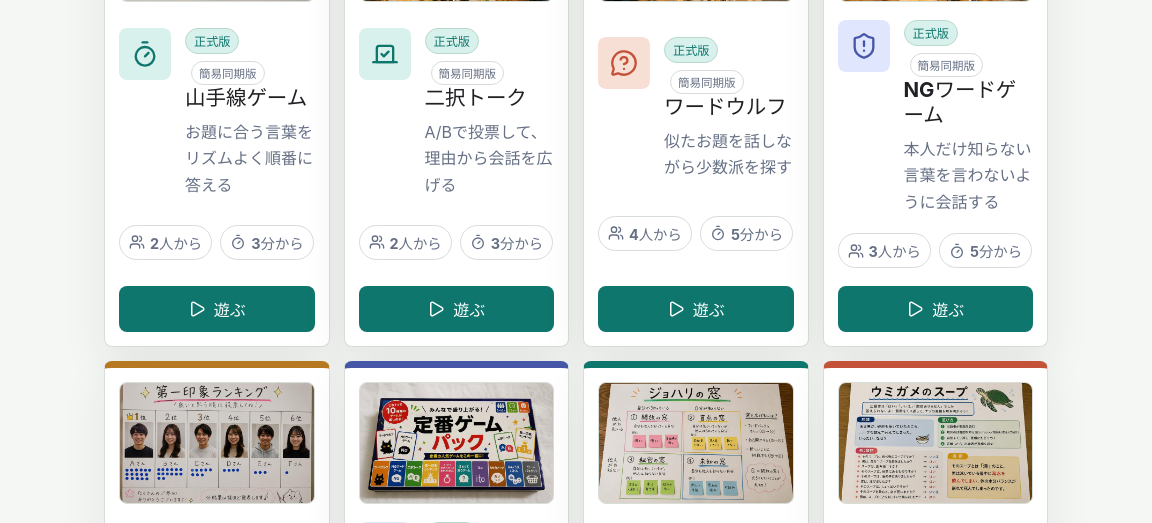
ホームからゲーム開始 › 正式版ゲームが表示され、開始時は同期ルームへ誘導される
(page scrolled)
Click the button "遊ぶ" below "A/Bで投票して、理由から会話を広げる": (456, 309) [358,286,554,332]
(page scrolled)
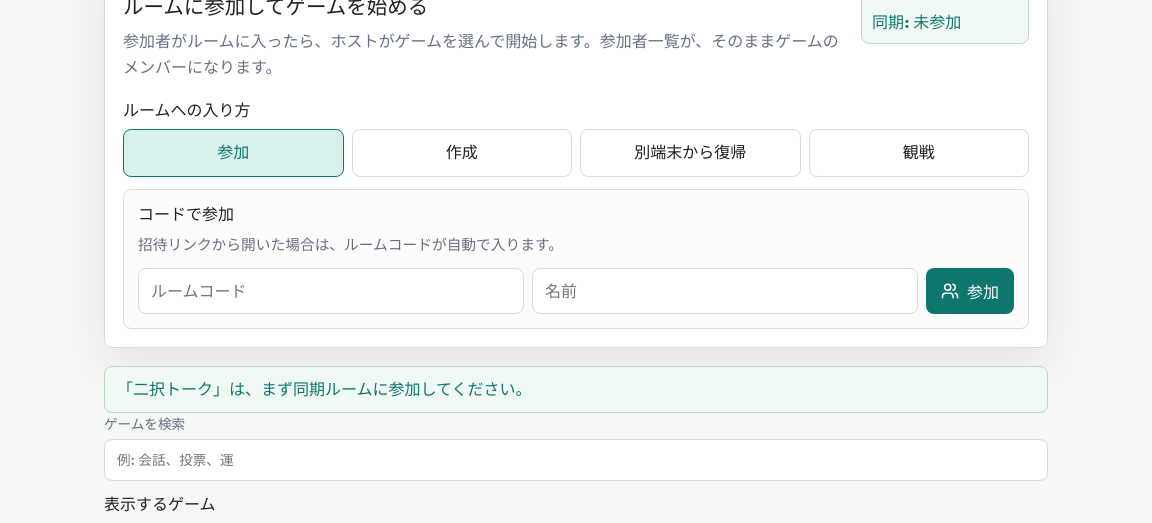
Check: the text "まず同期ルームに参加してください" is shown, box [117,379,532,399]
